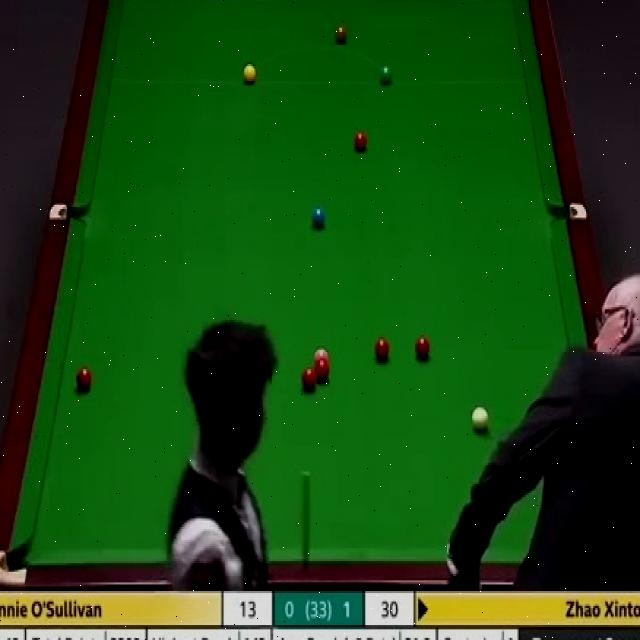blue-ball: (310, 206, 327, 229)
brown-ball: (334, 24, 347, 43)
green-ball: (378, 63, 393, 85)
pink-ball: (313, 346, 331, 365)
red-ball: (373, 334, 391, 365), (414, 332, 431, 362), (302, 368, 318, 392), (76, 366, 92, 389), (354, 130, 368, 156), (313, 363, 329, 380)
white-ball: (468, 406, 492, 435)
yellow-ball: (243, 64, 257, 86)
